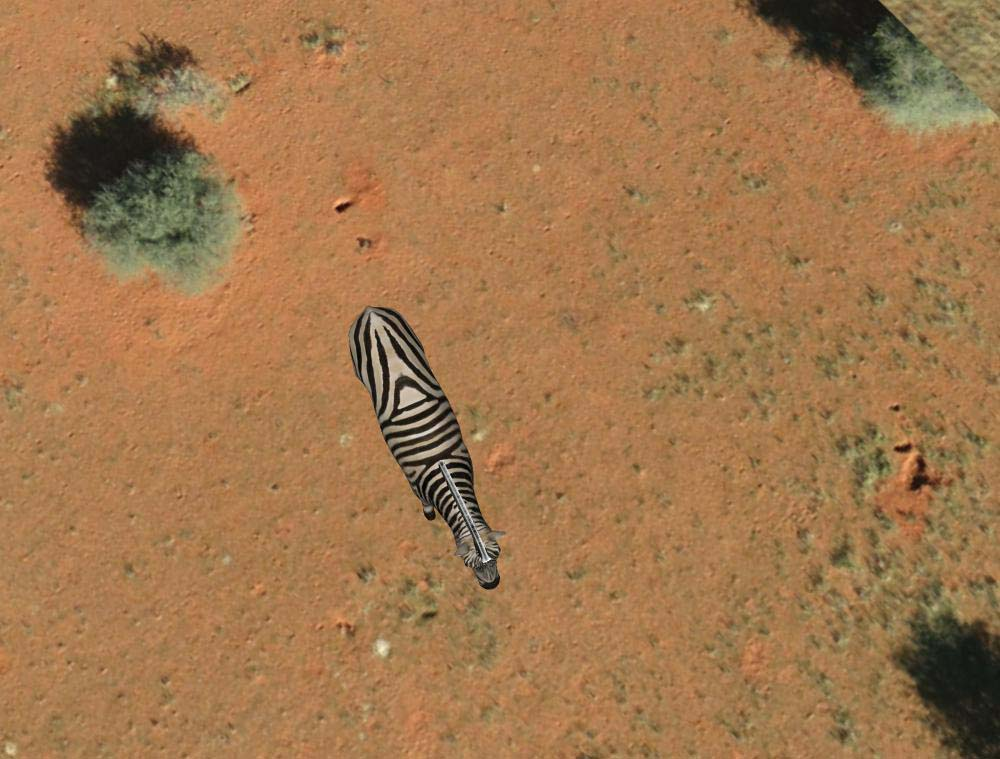zebra: (342, 304, 507, 599)
